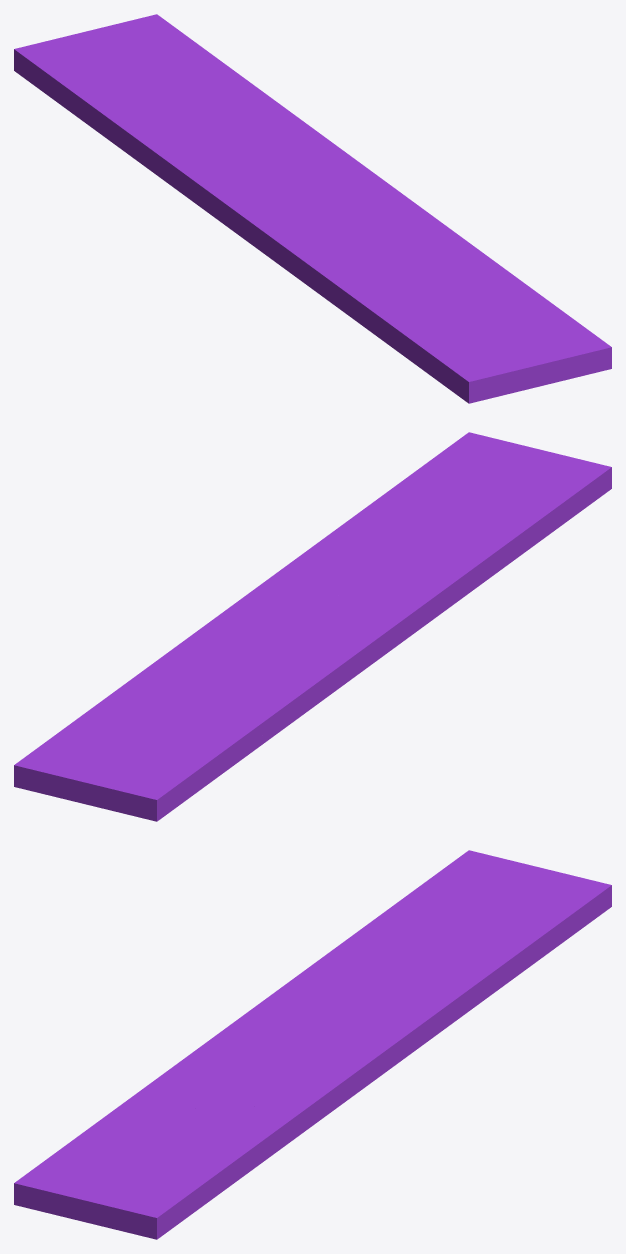
File: StairsStep_64_chunks.fbx
3 renders of one model, top to bottom at view 1: azimuth 30°, elevation 25°; view 2: azimuth 150°, elevation 25°; view 3: azimuth 330°, elevation 25°, orthographic.
Visible parts, largest first — view 1: StairsStep_64_9, StairsStep_64_8, StairsStep_64_6, StairsStep_64_7, StairsStep_64_4, StairsStep_64_11, StairsStep_64_1, StairsStep_64_3, StairsStep_64_2, StairsStep_64_5, StairsStep_64_12, StairsStep_64_0; view 2: StairsStep_64_6, StairsStep_64_8, StairsStep_64_9, StairsStep_64_7, StairsStep_64_4, StairsStep_64_11, StairsStep_64_3, StairsStep_64_1, StairsStep_64_2, StairsStep_64_5, StairsStep_64_12, StairsStep_64_0; view 3: StairsStep_64_9, StairsStep_64_6, StairsStep_64_8, StairsStep_64_7, StairsStep_64_11, StairsStep_64_3, StairsStep_64_4, StairsStep_64_1, StairsStep_64_2, StairsStep_64_12, StairsStep_64_0.
Part boxes in pixels (x1,y1,x2,y2): StairsStep_64_9: (426, 246, 611, 393); StairsStep_64_8: (14, 38, 237, 162); StairsStep_64_6: (60, 14, 314, 133); StairsStep_64_7: (185, 129, 367, 215); StairsStep_64_4: (212, 194, 362, 303); StairsStep_64_11: (342, 168, 473, 256); StairsStep_64_1: (333, 288, 510, 403); StairsStep_64_3: (346, 266, 511, 375); StairsStep_64_2: (271, 196, 392, 267); StairsStep_64_5: (86, 123, 194, 202); StairsStep_64_12: (362, 239, 431, 295); StairsStep_64_0: (296, 180, 346, 220); StairsStep_64_6: (14, 650, 218, 814); StairsStep_64_8: (111, 675, 311, 821); StairsStep_64_9: (331, 432, 568, 543); StairsStep_64_7: (172, 611, 355, 688); StairsStep_64_4: (331, 559, 485, 676); StairsStep_64_11: (225, 533, 372, 612); StairsStep_64_3: (413, 456, 583, 563); StairsStep_64_1: (476, 460, 611, 587); StairsStep_64_2: (320, 552, 429, 632); StairsStep_64_5: (230, 675, 337, 767); StairsStep_64_12: (371, 526, 455, 577); StairsStep_64_0: (260, 594, 345, 622); StairsStep_64_9: (53, 1106, 294, 1239); StairsStep_64_6: (407, 861, 611, 1023); StairsStep_64_8: (314, 850, 514, 974); StairsStep_64_7: (271, 973, 453, 1058); StairsStep_64_11: (253, 1037, 404, 1138); StairsStep_64_3: (42, 1087, 211, 1197); StairsStep_64_4: (140, 995, 294, 1090); StairsStep_64_1: (14, 1091, 144, 1214); StairsStep_64_2: (196, 1018, 305, 1097); StairsStep_64_12: (170, 1072, 254, 1124); StairsStep_64_0: (280, 1027, 365, 1056).
Size of the model in its own units: 200 by 28.98 by 1102.
